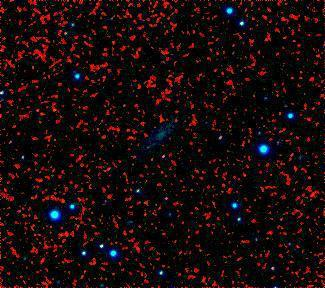star: (43, 95, 73, 125)
